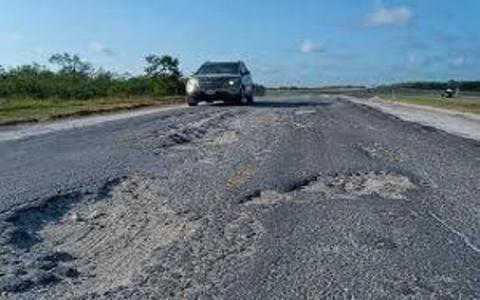patchy roads: (160, 138, 450, 252), (12, 127, 153, 285)
